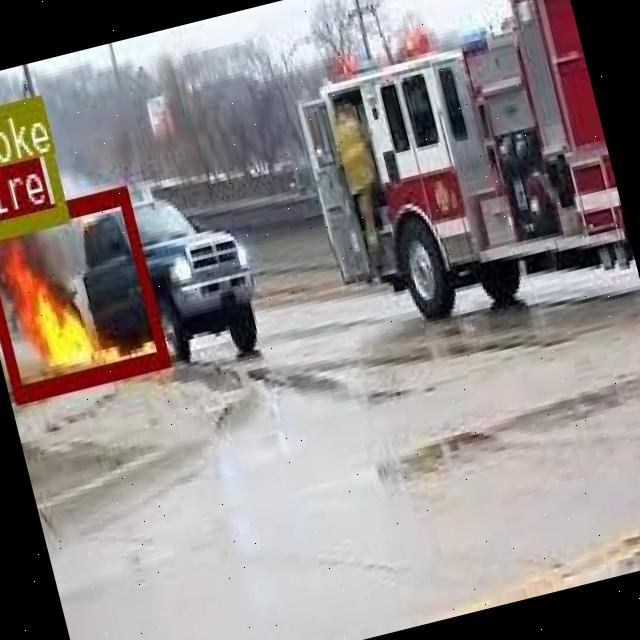fire: (0, 185, 166, 399)
smoke: (0, 92, 66, 241)
